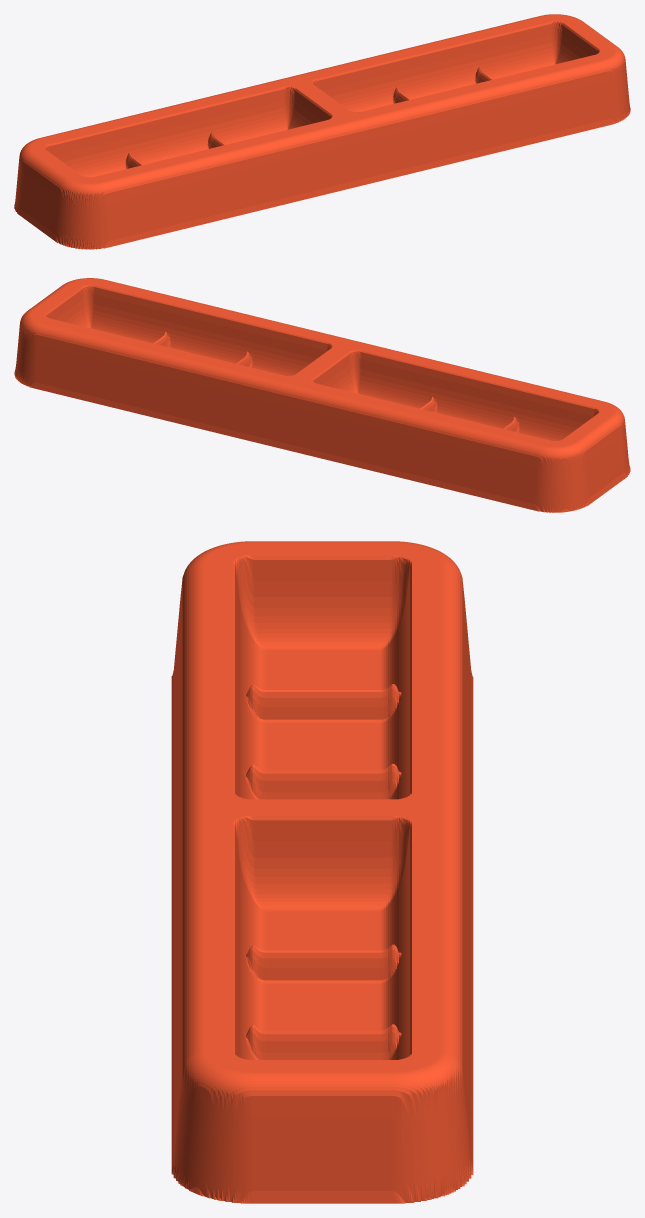
File: mold.glb
3 renders of one model, top to bottom at view 1: azimuth 30°, elevation 25°; view 2: azimuth 150°, elevation 25°; view 3: azimuth 270°, elevation 25°, orthographic. The views are drawn at different scales.
Visible parts, largest first — view 1: geometry_0; view 2: geometry_0; view 3: geometry_0.
Part boxes in pixels (left/top/right/bottom): geometry_0: left=14, top=14, right=630, bottom=249; geometry_0: left=14, top=278, right=630, bottom=512; geometry_0: left=171, top=541, right=473, bottom=1203.
Bounding box in the file's own units: 0.1466 × 0.0145 × 0.0336.
